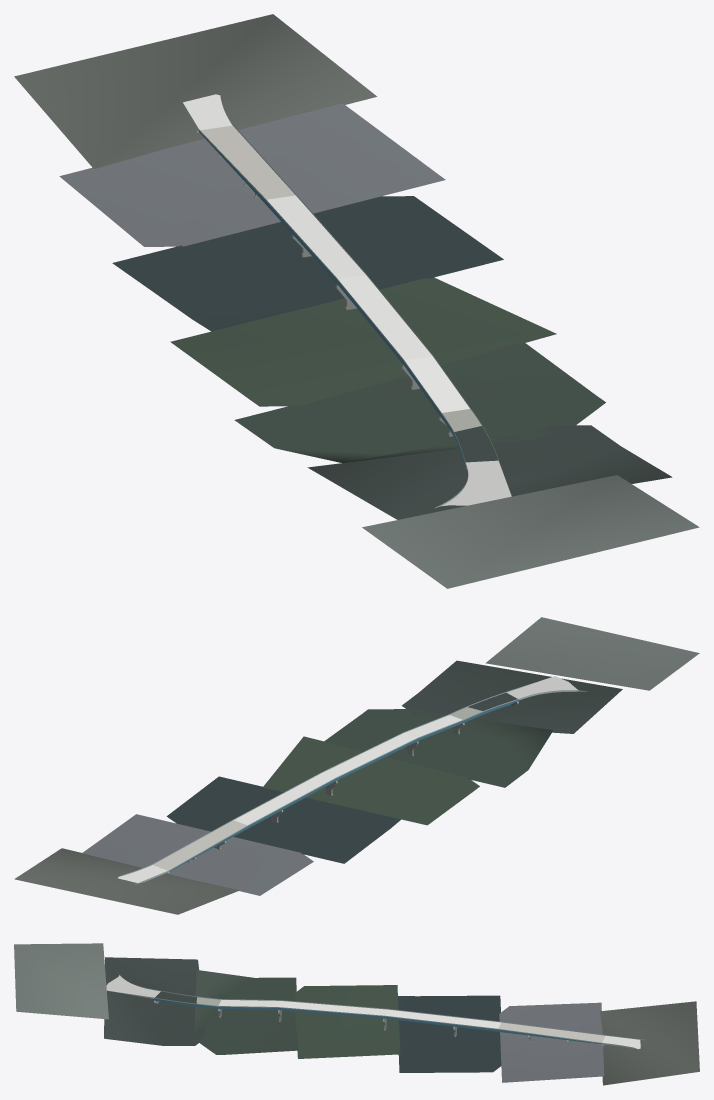
The model's file is veterans-bridge.glb.
The picture shows the model from 3 angles, top to bottom: view 1: azimuth 30°, elevation 25°; view 2: azimuth 150°, elevation 25°; view 3: azimuth 270°, elevation 25°; orthographic projection. The views are drawn at different scales.
Visible parts, largest first — view 1: Geom3D; view 2: Geom3D; view 3: Geom3D.
Part boxes in pixels (box(x1,y1,x2,y2)): Geom3D: box(14, 14, 699, 588); Geom3D: box(14, 617, 699, 914); Geom3D: box(14, 943, 699, 1085).
Size of what is drawn, in the model's own units: 438 by 33.27 by 1007.
1 material, 1 textured.
